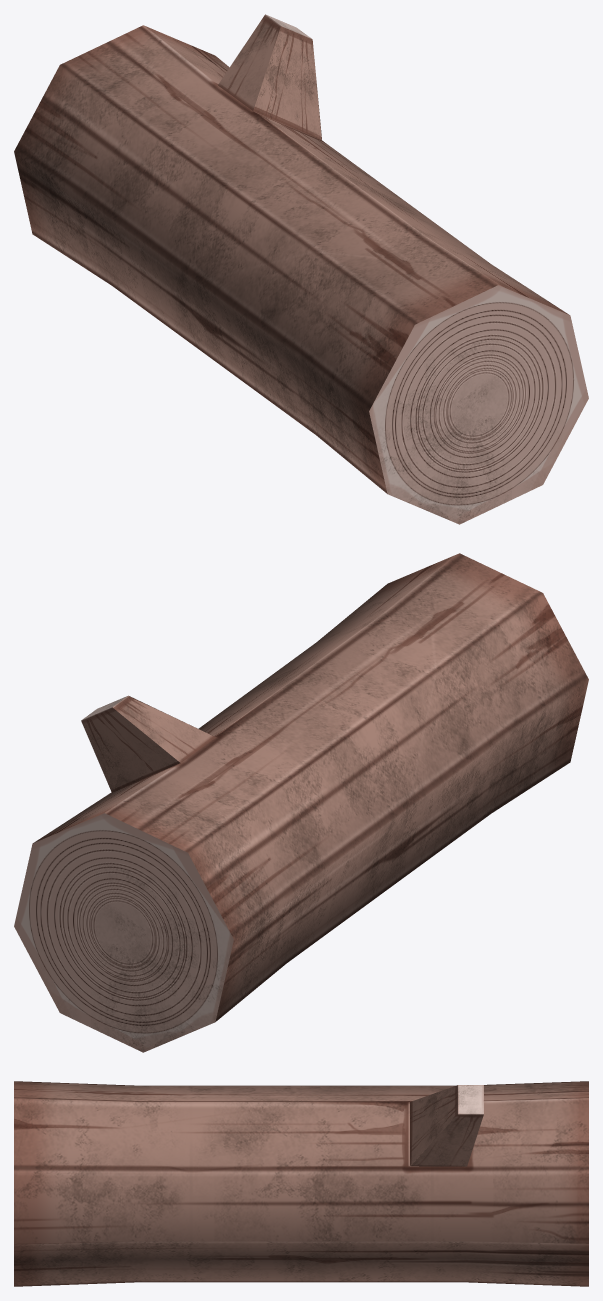
File: logs.FBX
The picture shows the model from 3 angles, top to bottom: view 1: azimuth 30°, elevation 25°; view 2: azimuth 150°, elevation 25°; view 3: azimuth 270°, elevation 25°; orthographic projection. The views are drawn at different scales.
Visible parts, largest first — view 1: Cylinder010; view 2: Cylinder010; view 3: Cylinder010.
Part boxes in pixels (left/top/right/bottom): Cylinder010: left=14, top=14, right=588, bottom=524; Cylinder010: left=14, top=553, right=588, bottom=1052; Cylinder010: left=14, top=1081, right=588, bottom=1286.
Bounding box in the file's own units: 1.3 × 1.55 × 3.64.
